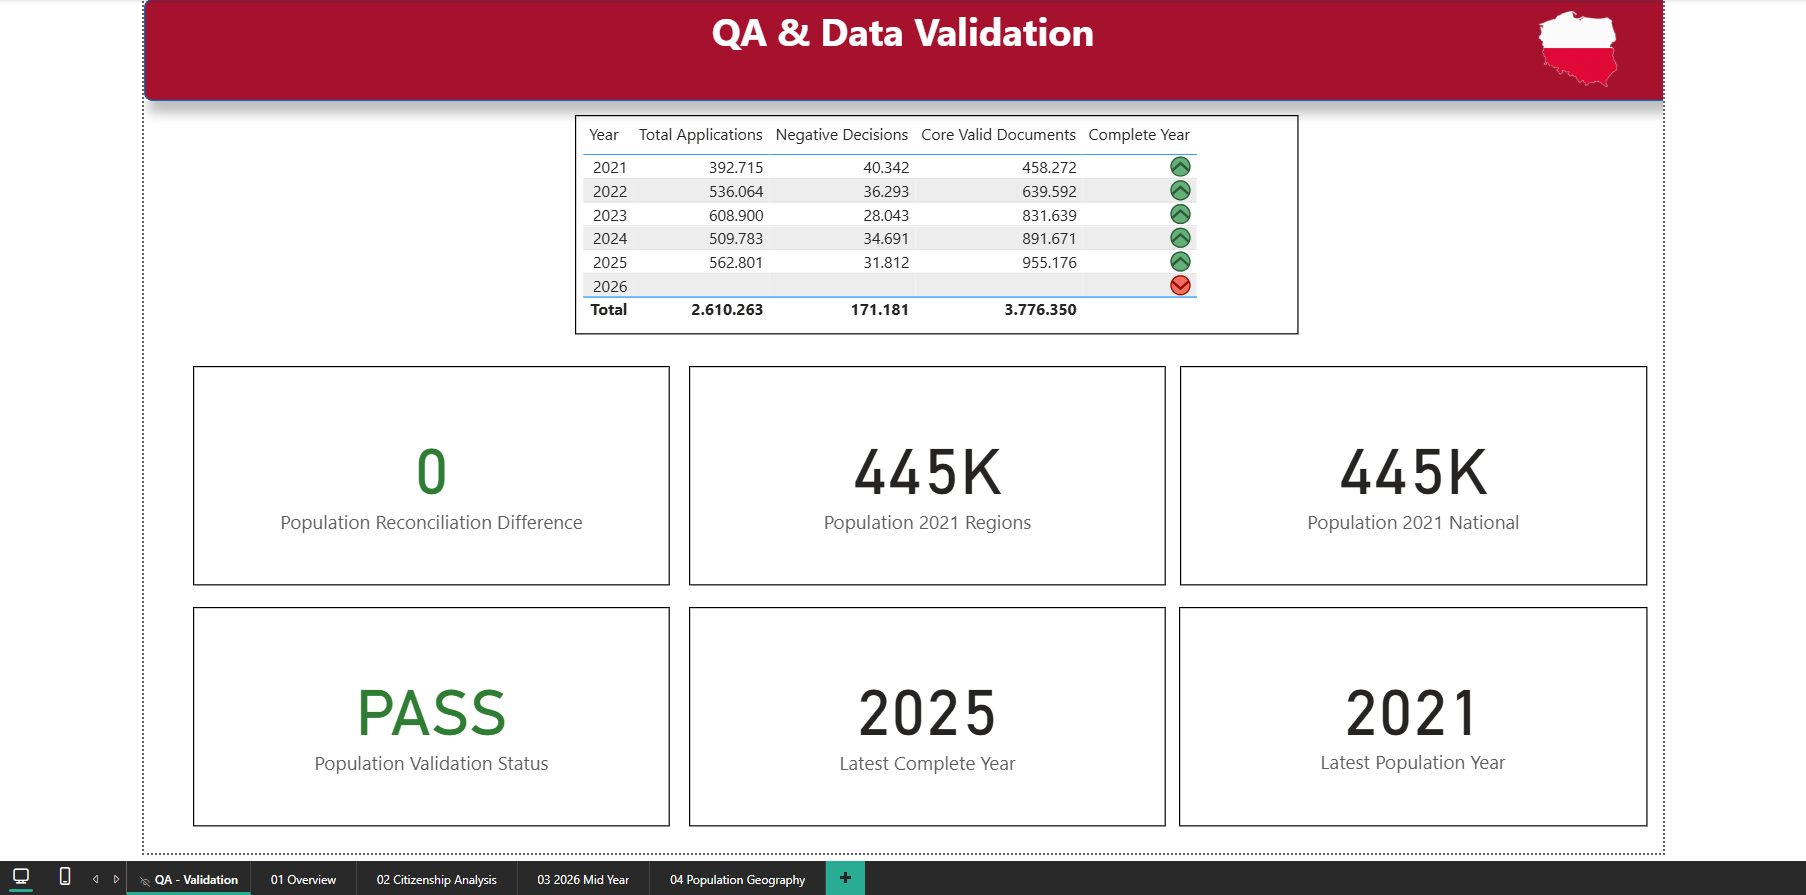

What the dashboard file says about the page in this screenshot:
{"tool":"powerbi","page":{"name":"QA - Validation","canvas":[1280,720],"ordinal":0},"visuals":[{"type":"tableEx","fields":{"Values":["dim_period_conformed.year","_Measures.Total Applications","_Measures.Negative Decisions","_Measures.Core Valid Documents","_Measures.Complete Year Status"]},"box":[363.5,97.9,610.1,184.9],"z":0},{"type":"card","fields":{"Values":["_Measures.Latest Population Year"]},"box":[872.6,512.6,394.6,184.6],"z":1000},{"type":"card","fields":{"Values":["_Measures.Population 2021 National"]},"box":[873.4,309.4,393.7,185.5],"z":2000},{"type":"card","fields":{"Values":["_Measures.Population 2021 Regions"]},"box":[459.5,309.4,402.2,185.5],"z":3000},{"type":"card","fields":{"Values":["_Measures.Latest Complete Year"]},"box":[459.5,512.6,402.2,185.5],"z":4000},{"type":"card","fields":{"Values":["_Measures.Population Reconciliation Difference"]},"box":[41.3,309.4,402.2,185.5],"z":5000},{"type":"card","fields":{"Values":["_Measures.Population Validation Status"]},"box":[41.3,512.6,402.2,185.5],"z":6000},{"type":"shape","box":[0,0,1373.7,86],"z":7000},{"type":"textbox","box":[0,0,1280,86.1],"z":8000},{"type":"image","box":[1136.8,0,143.2,85.2],"z":9000}]}

Visuals, with their boxes on the page's 1280x720 design canvas (x1, y1, x2, y2). These are canvas units, not pixel positions in the 1806x895 screenshot, which may show the page scaled, cropped or inside an application window:
tableEx - dim_period_conformed.year x _Measures.Total Applications: [364, 98, 974, 283]
card - _Measures.Latest Population Year: [873, 513, 1267, 697]
card - _Measures.Population 2021 National: [873, 309, 1267, 495]
card - _Measures.Population 2021 Regions: [460, 309, 862, 495]
card - _Measures.Latest Complete Year: [460, 513, 862, 698]
card - _Measures.Population Reconciliation Difference: [41, 309, 444, 495]
card - _Measures.Population Validation Status: [41, 513, 444, 698]
shape: [0, 0, 1374, 86]
textbox: [0, 0, 1280, 86]
image: [1137, 0, 1280, 85]
